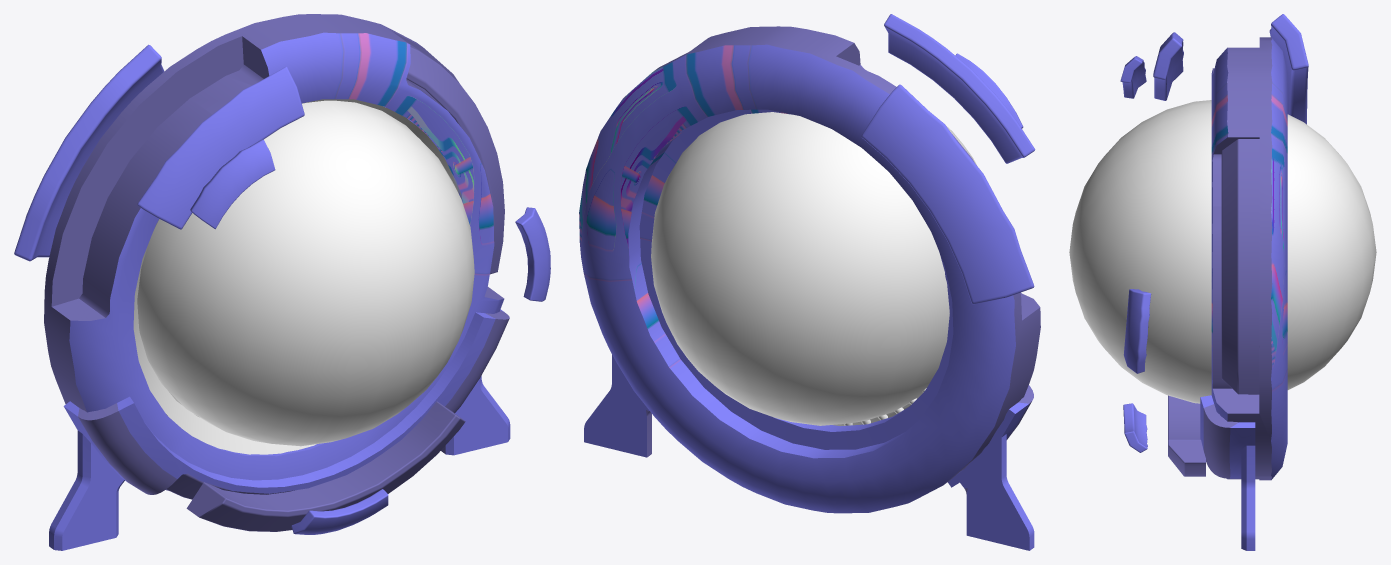
The model's file is Portal.fbx.
The picture shows the model from 3 angles, left to right: view 1: azimuth 30°, elevation 25°; view 2: azimuth 150°, elevation 25°; view 3: azimuth 270°, elevation 25°; orthographic projection. The views are drawn at different scales.
Parts seen in each view (by area): view 1: s, BaseBody, Portal_SM, Cutter_001_Plate_005, Torus_Plate_003, Torus_Plate_003_1, Cutter_001_Plate_004, Torus_006, Torus_Plate_003__1_, Torus_Plate_003__1__2, Torus_Plate_003__1__1, Cutter_001_Plate_006; view 2: s, BaseBody, Torus_Plate_003_1, Portal_SM, Torus_007, Torus_Plate_003, Torus_Plate_003__1_; view 3: s, BaseBody, Cutter_001_Plate_004, Portal_SM, Cutter_001_Plate_005, Torus_Plate_003_1, Torus_Plate_003__1__2, Torus_Plate_003, Torus_Plate_003__1__1, Torus_Plate_003__1_.
Part boxes in pixels (x1=…): s: x1=137, y1=100, x2=474, y2=446; BaseBody: x1=44, y1=14, x2=504, y2=490; Portal_SM: x1=49, y1=309, x2=510, y2=550; Cutter_001_Plate_005: x1=186, y1=401, x2=465, y2=531; Torus_Plate_003: x1=137, y1=66, x2=304, y2=229; Torus_Plate_003_1: x1=14, y1=44, x2=164, y2=261; Cutter_001_Plate_004: x1=406, y1=42, x2=504, y2=274; Torus_006: x1=133, y1=99, x2=458, y2=454; Torus_Plate_003__1_: x1=190, y1=139, x2=275, y2=229; Torus_Plate_003__1__2: x1=515, y1=207, x2=550, y2=301; Torus_Plate_003__1__1: x1=291, y1=489, x2=388, y2=534; Cutter_001_Plate_006: x1=166, y1=473, x2=294, y2=499; s: x1=651, y1=112, x2=976, y2=425; BaseBody: x1=579, y1=26, x2=1040, y2=513; Torus_Plate_003_1: x1=861, y1=84, x2=1034, y2=304; Portal_SM: x1=584, y1=355, x2=1034, y2=550; Torus_007: x1=639, y1=109, x2=953, y2=449; Torus_Plate_003: x1=884, y1=14, x2=1035, y2=163; Torus_Plate_003__1_: x1=955, y1=53, x2=1023, y2=128; s: x1=1069, y1=100, x2=1376, y2=403; BaseBody: x1=1211, y1=37, x2=1287, y2=480; Cutter_001_Plate_004: x1=1221, y1=139, x2=1259, y2=394; Portal_SM: x1=1200, y1=395, x2=1255, y2=550; Cutter_001_Plate_005: x1=1168, y1=395, x2=1205, y2=476; Torus_Plate_003_1: x1=1269, y1=14, x2=1308, y2=124; Torus_Plate_003__1__2: x1=1123, y1=289, x2=1151, y2=373; Torus_Plate_003: x1=1153, y1=32, x2=1183, y2=100; Torus_Plate_003__1__1: x1=1123, y1=403, x2=1147, y2=452; Torus_Plate_003__1_: x1=1120, y1=56, x2=1146, y2=98.
Bounding box in the file's own units: 196 × 186 × 128.
Materials: 4 (1 with a texture image).
